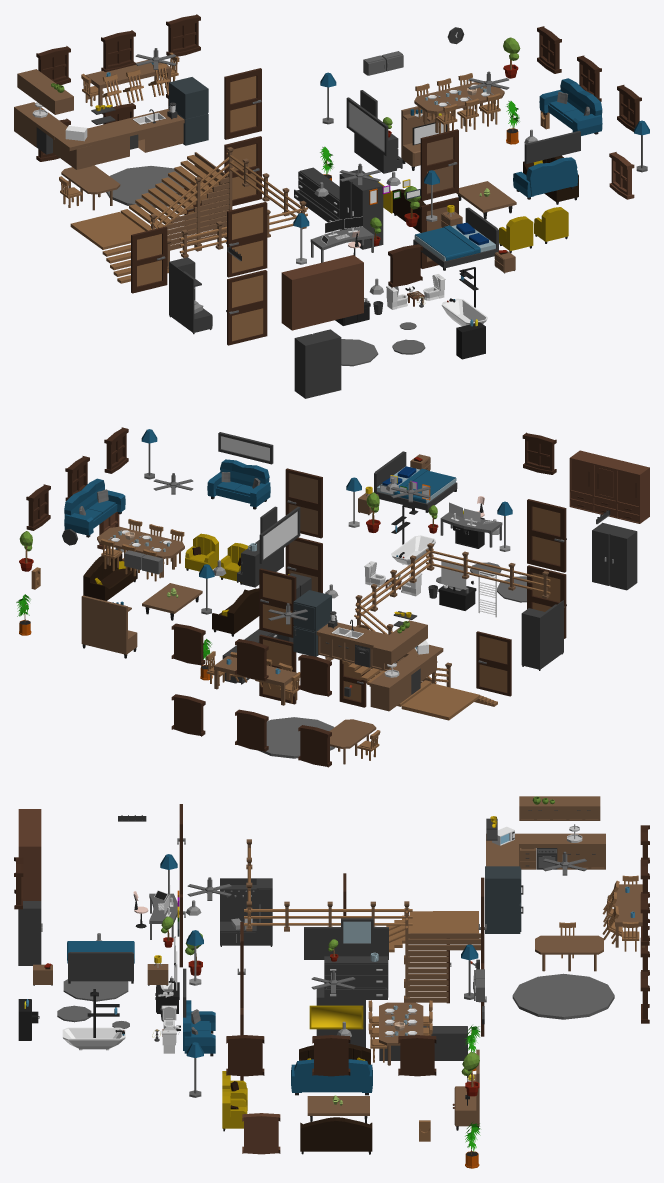
The model's file is level_ciplak.fbx.
3 views of the same model, one above another, from view 1: azimuth 30°, elevation 25°; view 2: azimuth 150°, elevation 25°; view 3: azimuth 270°, elevation 25° (orthographic). The views are drawn at different scales.
Visible parts, largest first — view 1: tezgah, giyinme_dolabi, Cube.040, Cube.029, Cube.002, door_01.005, door_01.001, door_01.002, door_01, koltuk.001, fortmanto.002, door_01.008 (+38 smaller); view 2: giyinme_dolabi, tezgah, Cube.002, door_01.001, Cube.038, fortmanto.002, koltuk.001, koltuk, door_01.008, door_01.002, door_01, buzdolabi (+42 smaller); view 3: Cube.040, Mutfak.003, tezgah, fortmanto.002, cekmeceler, buzdolabi, Cube.026, koltuk.001, giyinme_dolabi, yatak, tezgah.001, tablo (+24 smaller).
Boxes of the visible parts, <box> form: tezgah: <box>14,102,184,169</box>; giyinme_dolabi: <box>281,255,363,330</box>; Cube.040: <box>149,147,234,273</box>; Cube.029: <box>120,155,224,231</box>; Cube.002: <box>294,329,341,398</box>; door_01.005: <box>227,270,267,345</box>; door_01.001: <box>227,202,267,277</box>; door_01.002: <box>224,68,261,139</box>; door_01: <box>420,129,458,200</box>; koltuk.001: <box>539,78,602,135</box>; fortmanto.002: <box>169,257,212,334</box>; door_01.008: <box>131,226,167,293</box>; giyinme_dolabi: <box>569,450,649,523</box>; tezgah: <box>316,622,443,711</box>; Cube.002: <box>592,522,637,590</box>; door_01.001: <box>527,499,566,572</box>; Cube.038: <box>81,595,137,658</box>; fortmanto.002: <box>521,600,563,670</box>; koltuk.001: <box>64,478,125,537</box>; koltuk: <box>207,459,270,509</box>; door_01.008: <box>476,631,511,696</box>; door_01.002: <box>259,568,296,637</box>; door_01: <box>285,468,322,538</box>; buzdolabi: <box>293,590,331,656</box>; Cube.040: <box>389,901,480,1002</box>; Mutfak.003: <box>512,973,614,1019</box>; tezgah: <box>486,833,605,869</box>; fortmanto.002: <box>220,878,272,946</box>; cekmeceler: <box>324,956,388,999</box>; buzdolabi: <box>485,866,523,933</box>; Cube.026: <box>300,1117,372,1154</box>; koltuk.001: <box>291,1059,372,1095</box>; giyinme_dolabi: <box>18,809,41,900</box>; yatak: <box>68,952,133,983</box>; tezgah.001: <box>519,796,600,820</box>; tablo: <box>304,927,388,959</box>.
Size of the model in its own units: 10505 by 3092 by 11818.
Materials: 3 (2 with a texture image).
